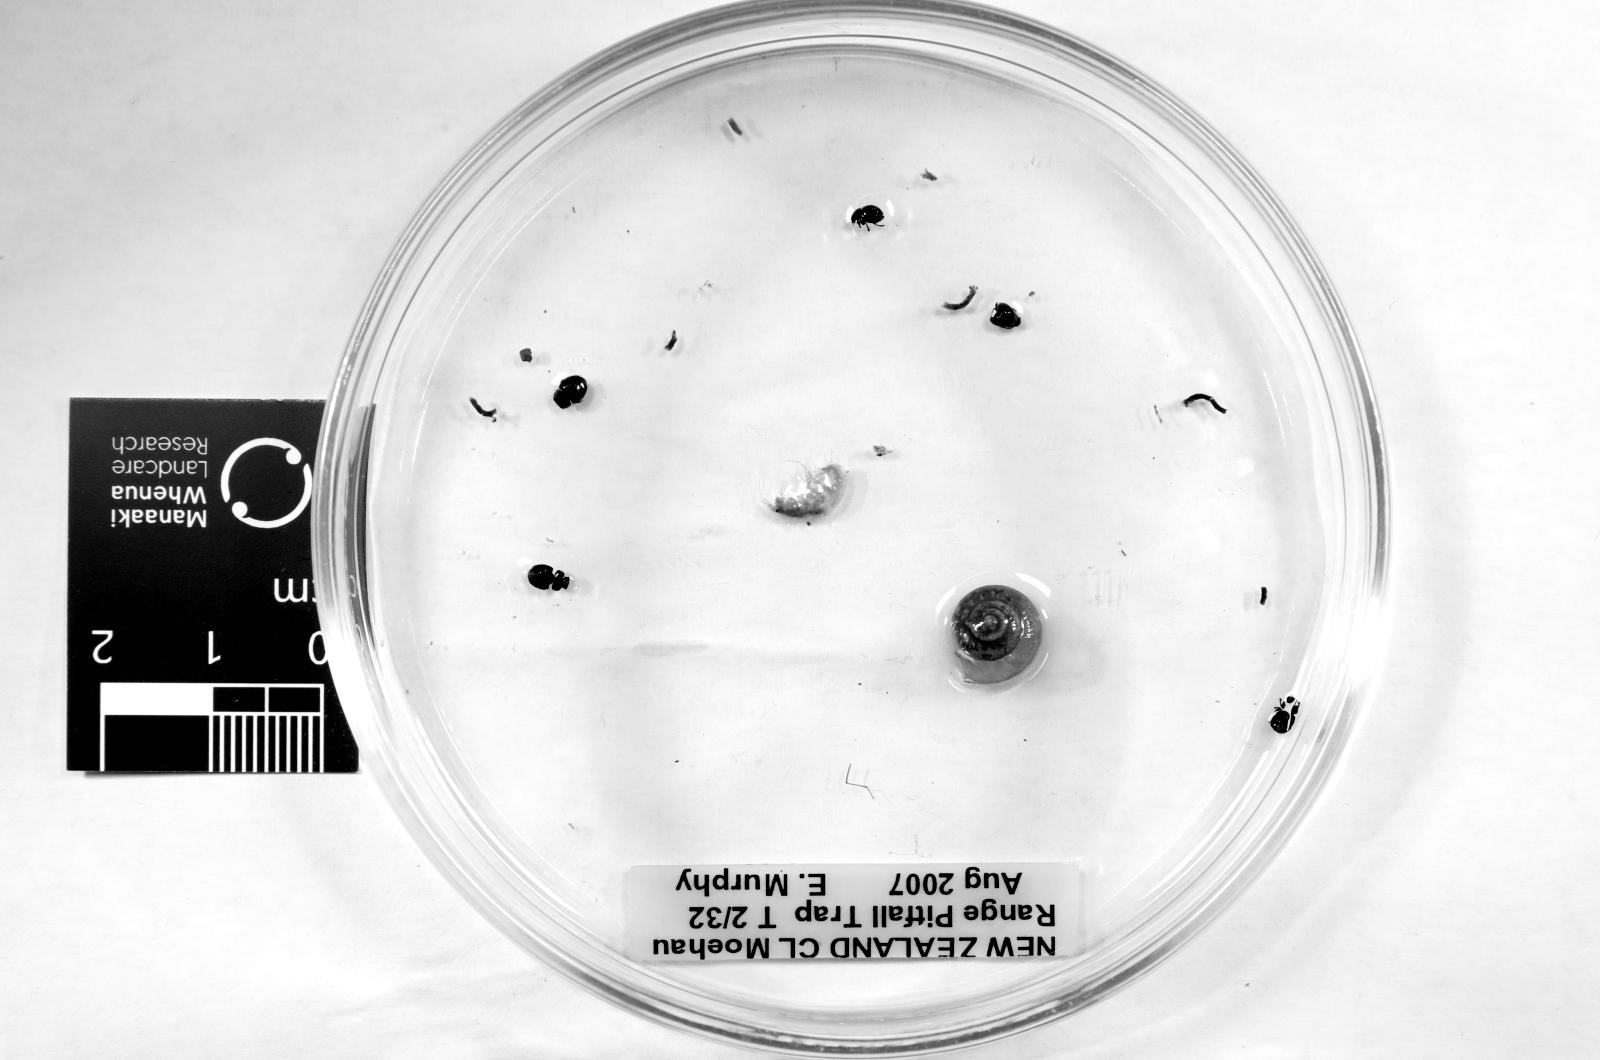amphipoda: (772, 463, 847, 518)
coleoptera: (553, 376, 588, 409), (529, 565, 572, 590), (850, 205, 885, 230)
gastropoda: (950, 587, 1041, 684)
